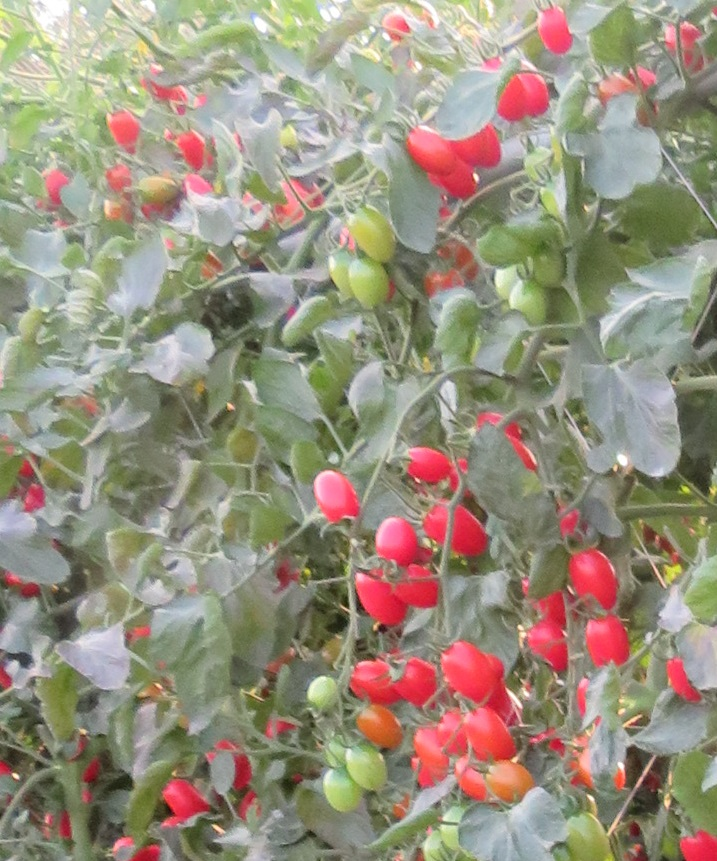green: (346, 205, 399, 264), (345, 741, 391, 792), (342, 257, 387, 308), (320, 768, 365, 818), (507, 282, 550, 331), (572, 809, 607, 858), (305, 672, 338, 715), (137, 176, 182, 203)
orange: (487, 760, 545, 800), (573, 747, 626, 790), (411, 724, 450, 776), (362, 707, 408, 747), (422, 268, 466, 304)
red: (564, 547, 622, 618), (421, 499, 488, 557), (584, 614, 637, 686), (357, 563, 411, 628), (480, 57, 528, 121), (395, 659, 452, 712), (440, 645, 493, 699), (457, 699, 511, 752), (400, 122, 456, 171), (314, 464, 355, 524), (160, 778, 209, 825), (374, 516, 416, 568), (528, 621, 571, 671), (403, 445, 456, 484), (103, 106, 144, 150), (533, 7, 573, 51), (350, 659, 391, 698), (678, 826, 717, 861), (174, 123, 205, 166)
